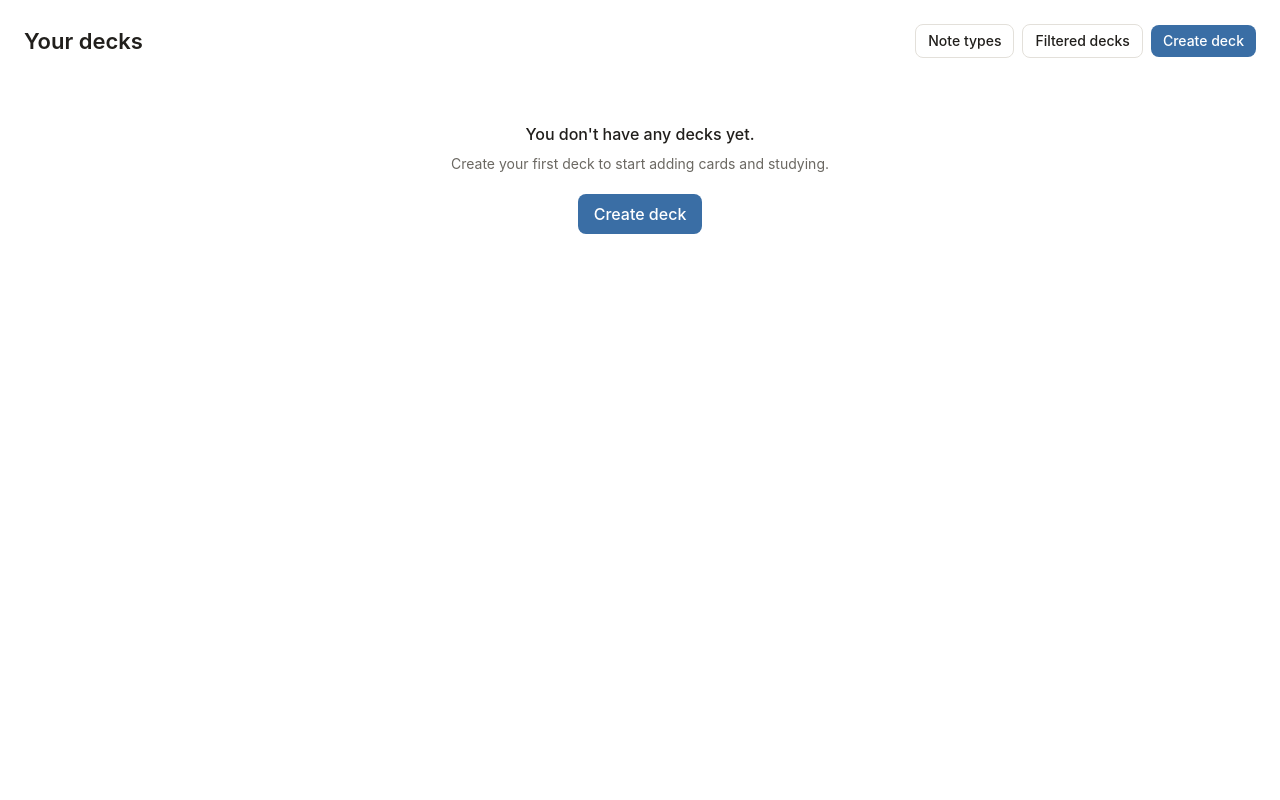
Test: DecksScreen › opens the create-deck dialog from the header button when the deck list is empty
The width and height of the screenshot is (1280, 800).
Check: the field labelled "New deck name" is not shown
Check: the text "You don't have any decks yet." is shown, box [526,122,754,146]
Click the button "Create deck" in the row of "Your decks": (1203, 41) [1151,25,1256,57]
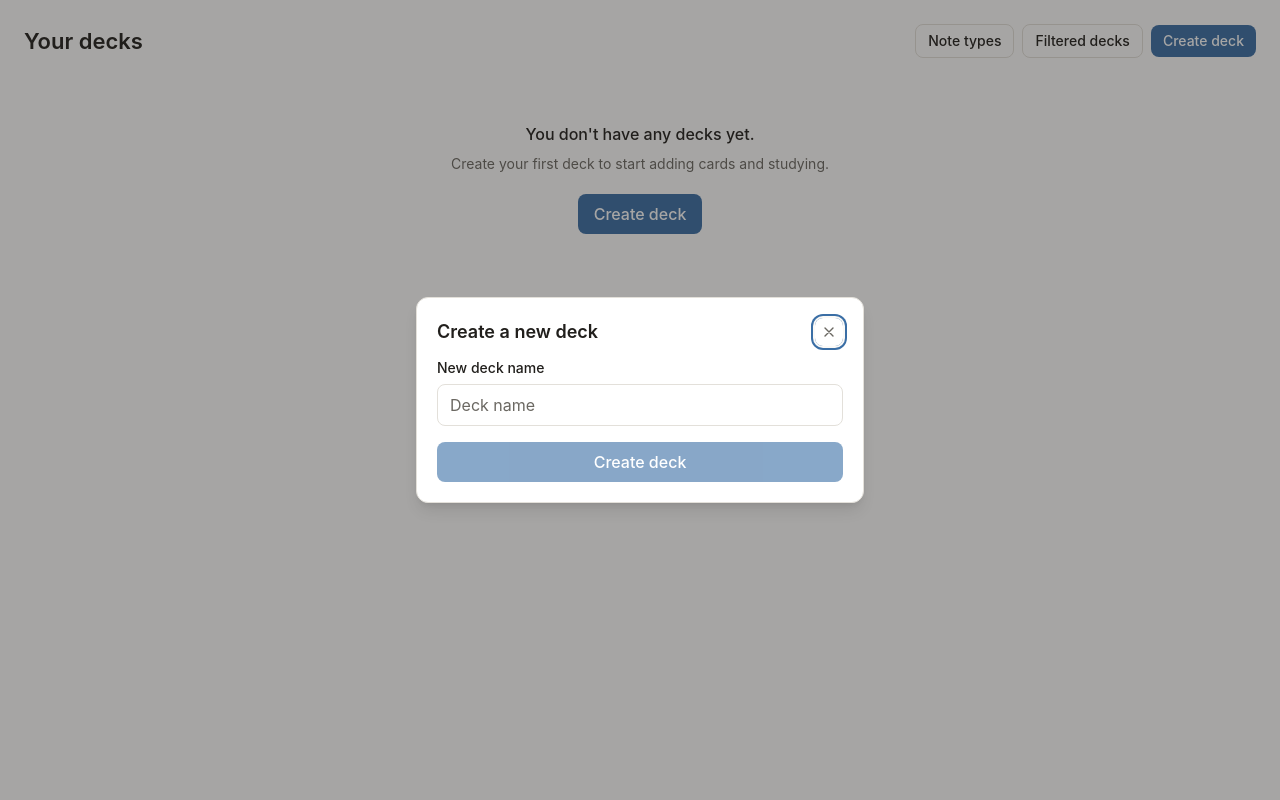
Check: the field labelled "New deck name" is shown, box [437,384,843,426]
Check: the dialog "Create a new deck" is shown, box [416,297,864,503]
